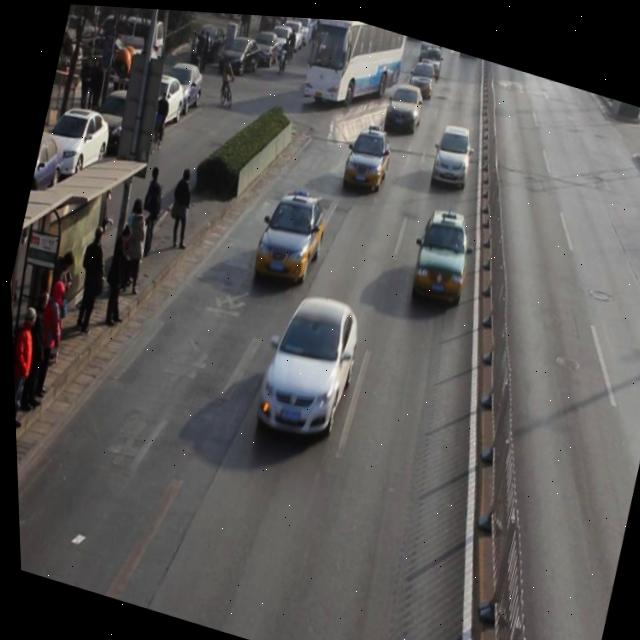car: (248, 279, 366, 443), (247, 179, 331, 289), (404, 198, 479, 303), (337, 119, 397, 193), (426, 113, 478, 189), (381, 74, 428, 134), (404, 52, 439, 97), (415, 38, 446, 77)
van: (295, 14, 409, 121)
